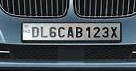numberplate: (21, 21, 122, 43)
